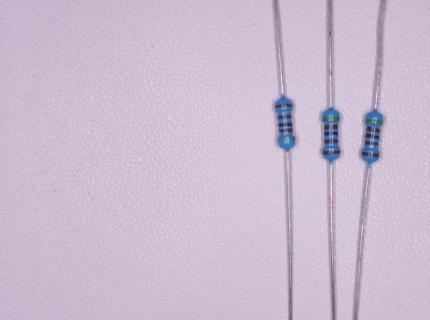Black band: (366, 133, 380, 139), (278, 123, 292, 127), (324, 131, 338, 135)
Brown band: (362, 152, 379, 158), (366, 126, 380, 133), (276, 103, 293, 108), (322, 151, 340, 155), (324, 139, 338, 144), (278, 115, 292, 119), (324, 125, 338, 129), (279, 129, 292, 133), (365, 141, 378, 145)
Green band: (277, 137, 295, 142), (366, 120, 383, 125), (323, 117, 339, 121)
